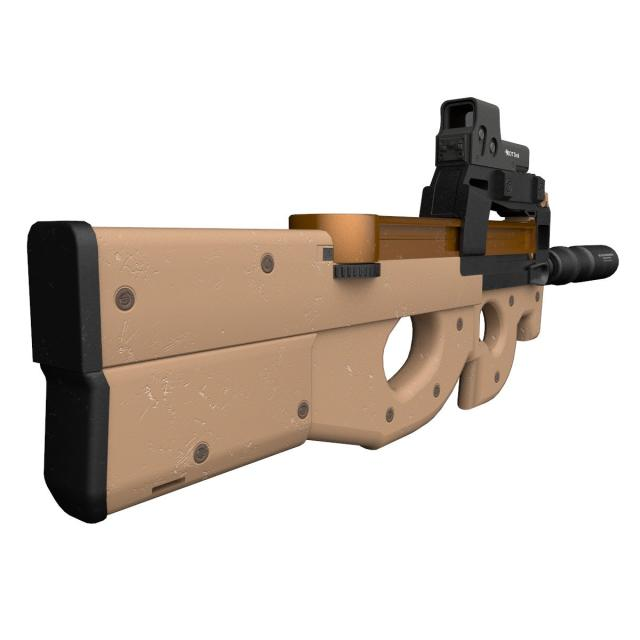Gun: (17, 88, 620, 528)
